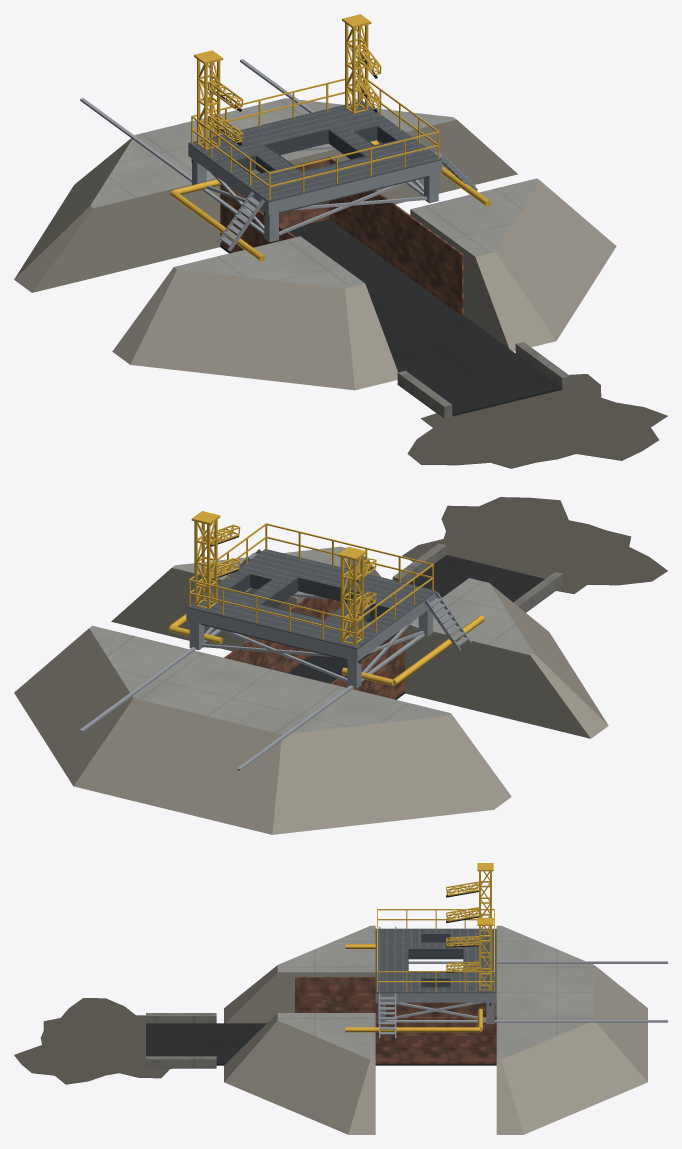
File: table_ela3.glb
3 views of the same model, one above another, from view 1: azimuth 30°, elevation 25°; view 2: azimuth 150°, elevation 25°; view 3: azimuth 270°, elevation 25° (orthographic). The views are drawn at different scales.
Parts seen in each view (by area): view 1: table_ela3, masts; view 2: table_ela3, masts; view 3: table_ela3, masts.
Boxes of the visible parts, <box> form: table_ela3: <box>14,59,667,468</box>; masts: <box>194,14,381,149</box>; table_ela3: <box>14,497,667,834</box>; masts: <box>191,511,376,644</box>; table_ela3: <box>14,909,667,1134</box>; masts: <box>446,863,493,990</box>.
Bounding box in the file's own units: 21.02 × 8.29 × 32.43.
12 materials, 5 textured.
